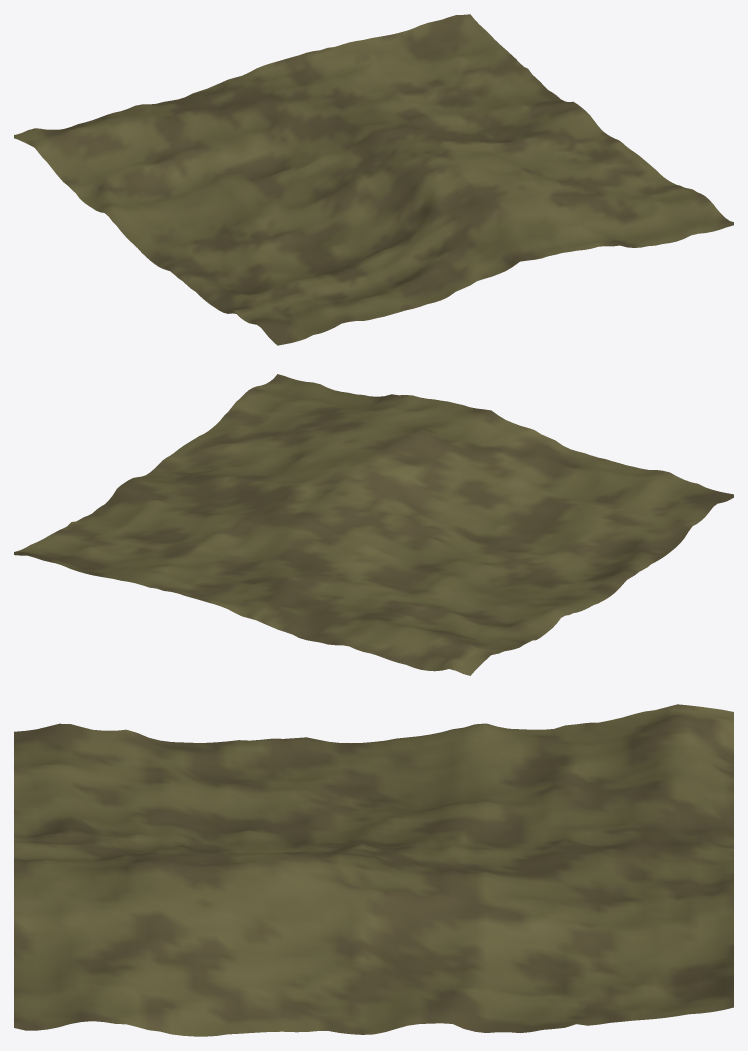
Rendered from land_f_05_00.glb.
3 views of the same model, one above another, from view 1: azimuth 30°, elevation 25°; view 2: azimuth 150°, elevation 25°; view 3: azimuth 270°, elevation 25° (orthographic). The views are drawn at different scales.
Parts seen in each view (by area): view 1: land_f_05_00; view 2: land_f_05_00; view 3: land_f_05_00.
Boxes of the visible parts, x1=… form: land_f_05_00: x1=14, y1=14, x2=733, y2=345; land_f_05_00: x1=14, y1=374, x2=733, y2=675; land_f_05_00: x1=14, y1=704, x2=733, y2=1036.
Size of the model in its own units: 3840 by 404 by 3840.
